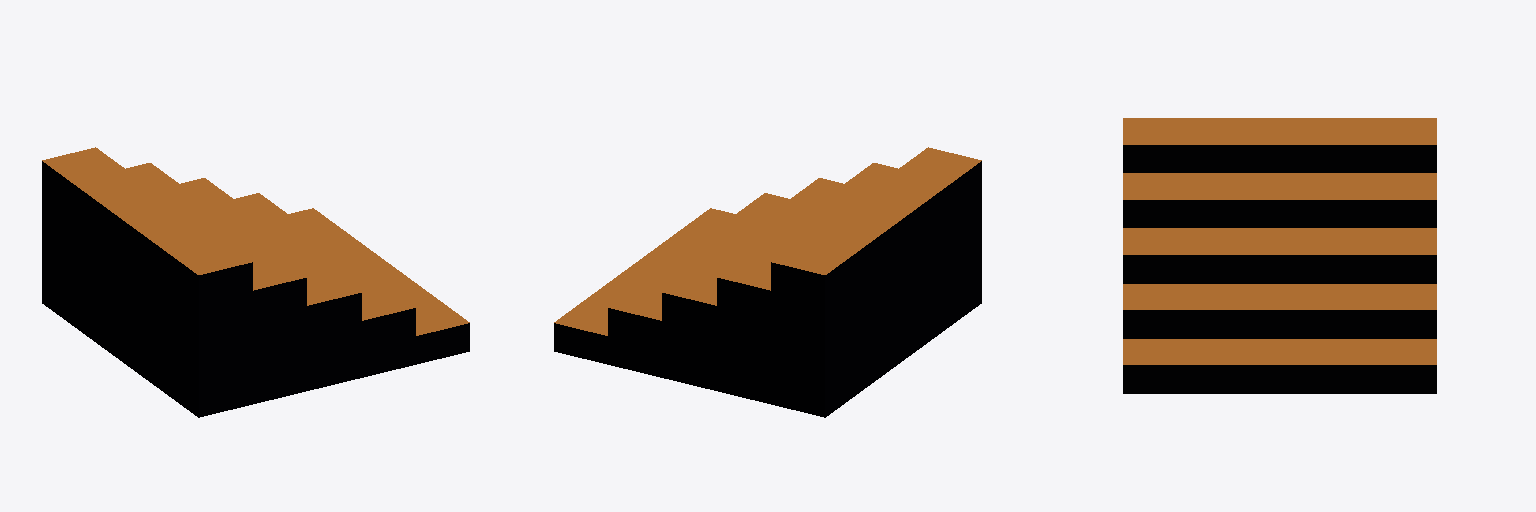
Rendered from Stairs_Full.obj.
The picture shows the model from 3 angles: view 1: azimuth 30°, elevation 25°; view 2: azimuth 150°, elevation 25°; view 3: azimuth 270°, elevation 25°; orthographic projection.
Parts seen in each view (by area): view 1: Stairs_Full; view 2: Stairs_Full; view 3: Stairs_Full.
Boxes of the visible parts, <box> form: Stairs_Full: <box>42,147,469,417</box>; Stairs_Full: <box>554,147,981,417</box>; Stairs_Full: <box>1123,118,1436,393</box>.
Bounding box in the file's own units: 10 × 5 × 10.